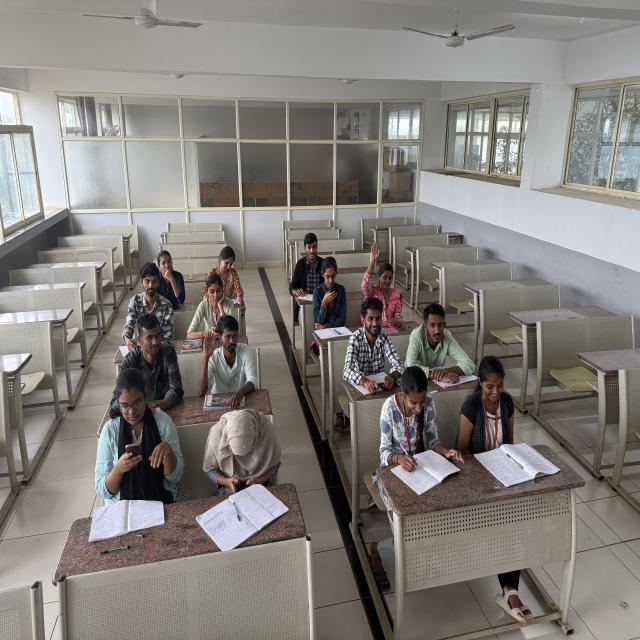Hand Rising: (197, 314, 254, 402), (361, 237, 405, 316)
Reading: (456, 354, 518, 454)
Using Phone: (90, 367, 184, 495), (201, 404, 286, 496), (186, 272, 240, 338), (313, 255, 346, 324)
Writing: (380, 364, 448, 474), (116, 261, 182, 344), (204, 245, 248, 305)
